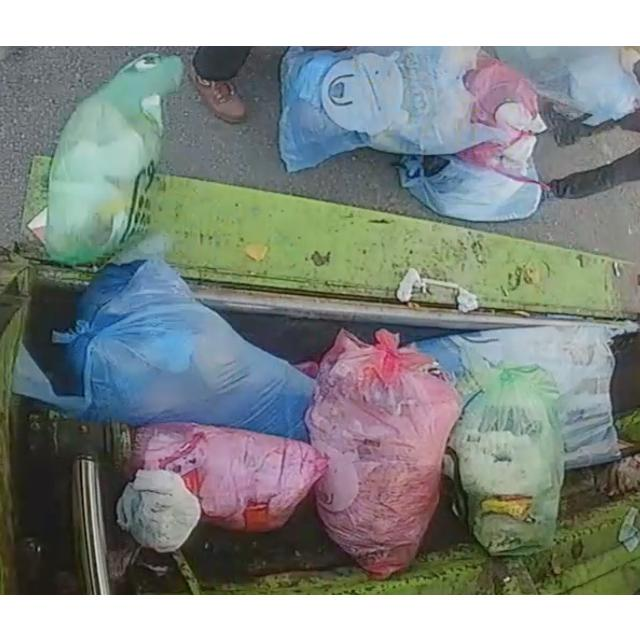general_trashbag: (45, 51, 184, 264), (445, 365, 564, 555)
other_trashbag: (14, 259, 314, 439), (305, 329, 460, 578), (416, 324, 620, 468), (279, 45, 504, 171), (131, 422, 328, 531), (456, 52, 546, 182), (494, 45, 640, 125), (399, 155, 541, 221)
